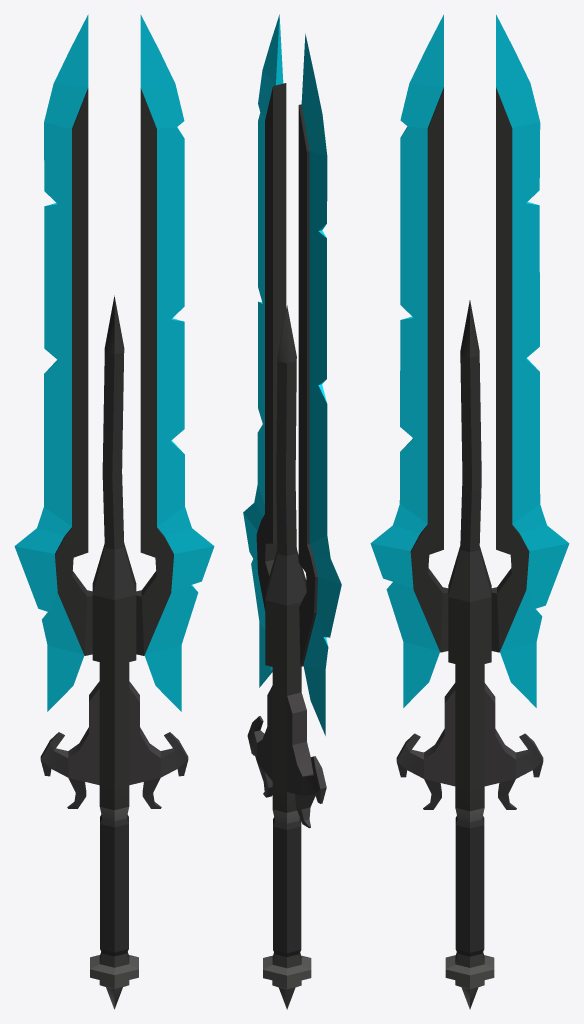
The model's file is SM_Wep_Crystal_DoubleSword_01.FBX.
3 views of the same model, side by side, from view 1: azimuth 90°, elevation 25°; view 2: azimuth 210°, elevation 25°; view 3: azimuth 270°, elevation 25° (orthographic).
Visible parts, largest first — view 1: SM_Wep_Crystal_DoubleSword_01; view 2: SM_Wep_Crystal_DoubleSword_01; view 3: SM_Wep_Crystal_DoubleSword_01.
Boxes of the visible parts, <box> form: SM_Wep_Crystal_DoubleSword_01: <box>14,14,214,1009</box>; SM_Wep_Crystal_DoubleSword_01: <box>243,14,341,1009</box>; SM_Wep_Crystal_DoubleSword_01: <box>370,14,569,1009</box>.
Size of the model in its own units: 8.84 by 31.26 by 172.
